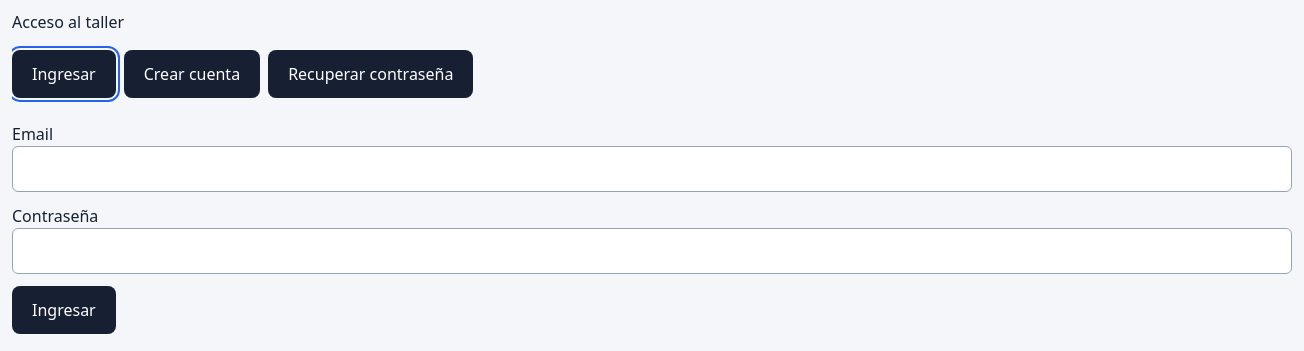
Auth UI mínima, no tests RLS › recuperación presenta respuesta neutral y redirect permitido
Click the button "Recuperar contraseña": click(371, 74) [268, 50, 473, 98]
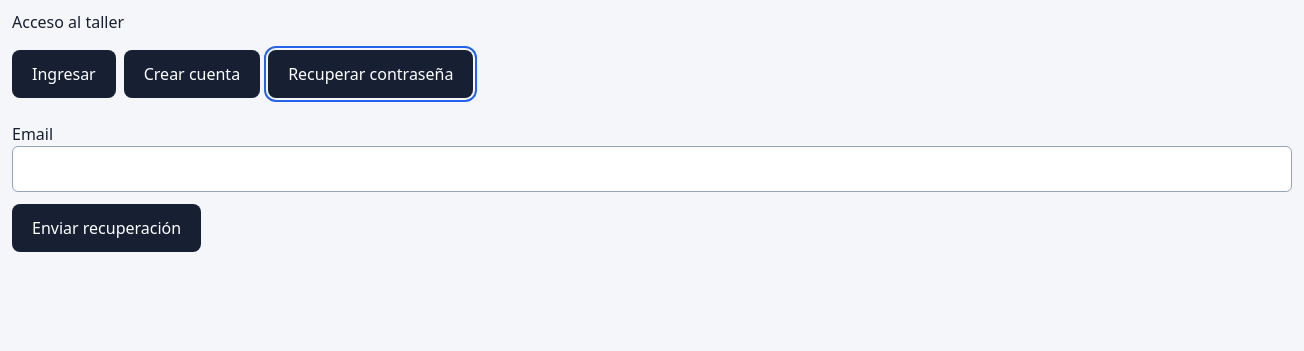
In the field labelled "Email": (652, 169) [12, 146, 1292, 192], type "user@example.test"
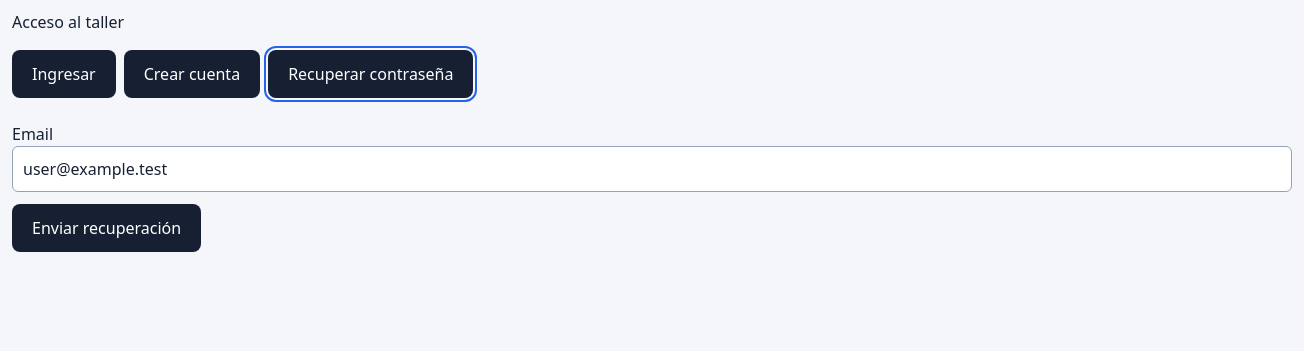
Click the button "Enviar recuperación": click(107, 228) [12, 204, 201, 252]
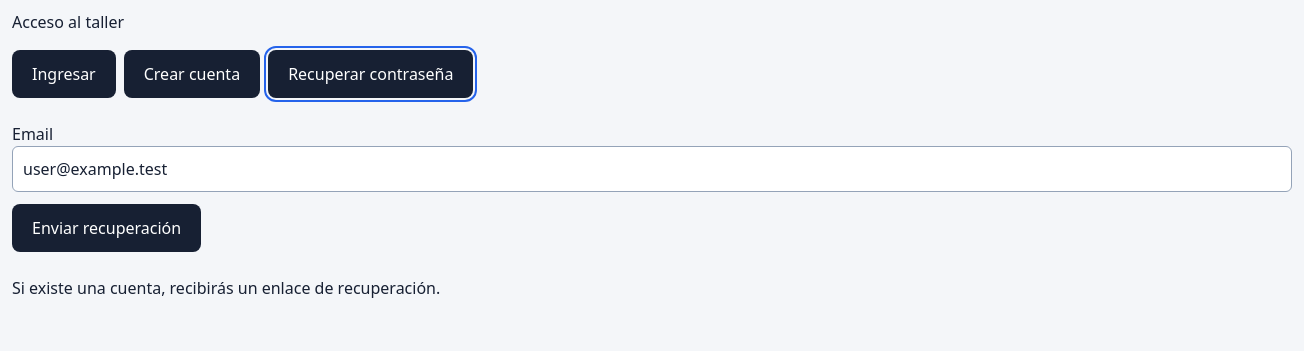
Expected: the text "Si existe una cuenta, recibirás un enlace de recuperación." is shown, [12, 277, 440, 299]
